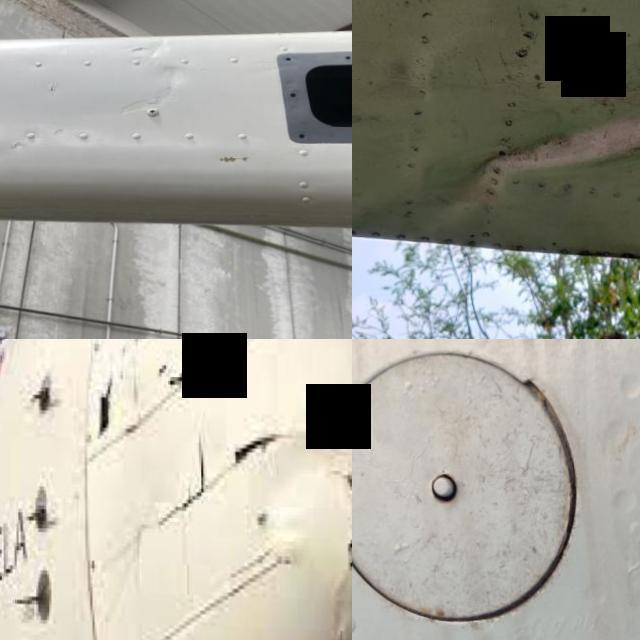Crack: (218, 433, 283, 469), (96, 380, 120, 438), (44, 82, 58, 91)
Dent: (461, 0, 640, 229)
